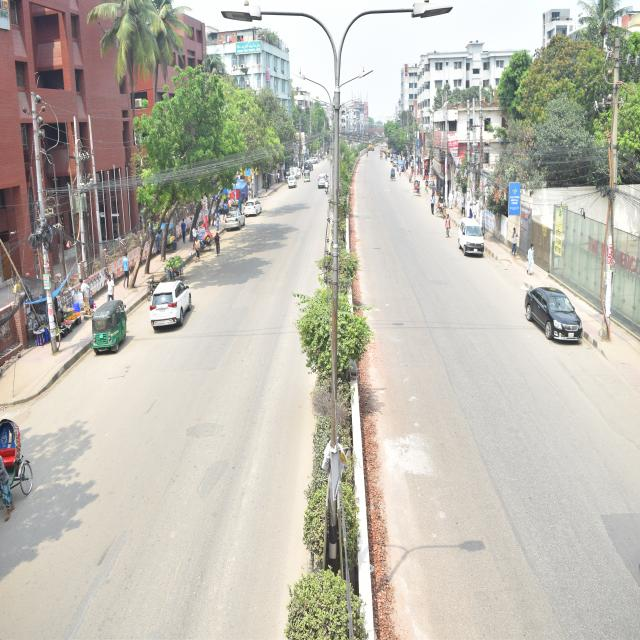car: (525, 261, 602, 378), (144, 268, 210, 362), (455, 209, 494, 287), (223, 198, 264, 262), (236, 189, 273, 241), (314, 166, 337, 217), (283, 170, 306, 212), (291, 154, 317, 176)
motorbike: (321, 170, 342, 217)
pickup-van: (394, 148, 414, 187), (288, 159, 307, 193)
